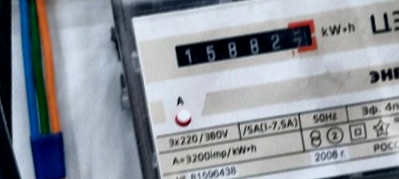1: (184, 44, 196, 63)
2: (271, 30, 284, 49)
5: (206, 42, 219, 60)
7: (293, 34, 306, 46)
8: (226, 38, 240, 56), (249, 34, 262, 53)
screen: (167, 14, 326, 75)
